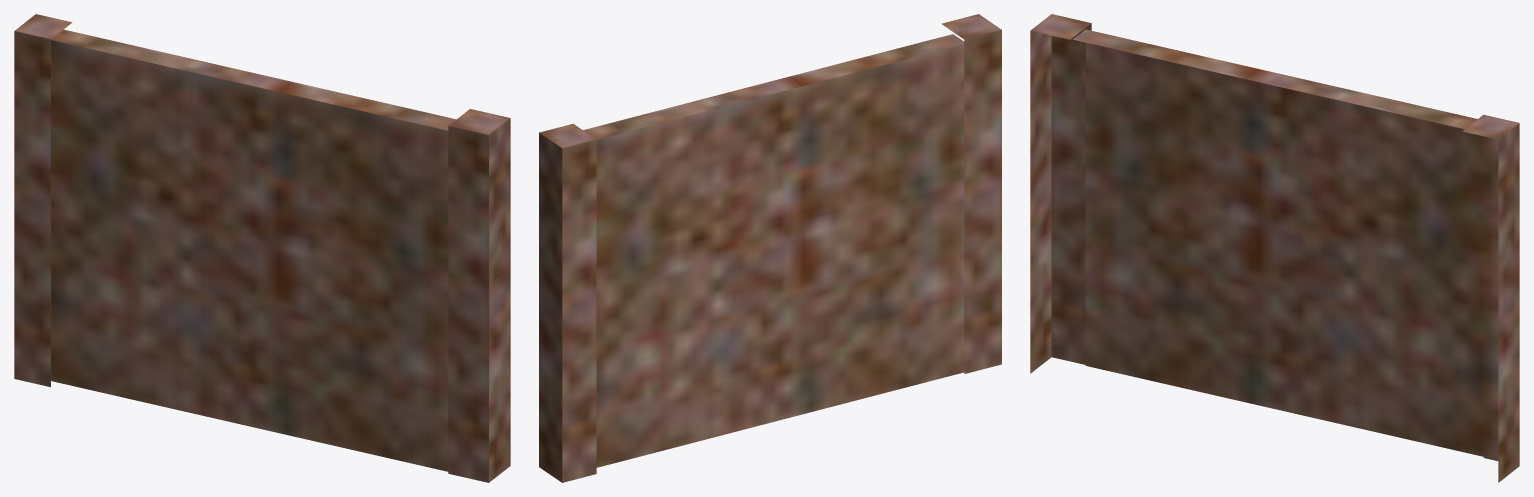
Rendered from Brick_WallHigh_Panel_Rail_1 st nv.fbx.
The picture shows the model from 3 angles, left to right: view 1: azimuth 90°, elevation 25°; view 2: azimuth 150°, elevation 25°; view 3: azimuth 270°, elevation 25°; orthographic projection. The views are drawn at different scales.
Visible parts, largest first — view 1: Brick_WallHigh_Panel_Rail_1_v0__sq01__1___18_; view 2: Brick_WallHigh_Panel_Rail_1_v0__sq01__1___18_; view 3: Brick_WallHigh_Panel_Rail_1_v0__sq01__1___18_.
Boxes of the visible parts, bbox=[...] form: Brick_WallHigh_Panel_Rail_1_v0__sq01__1___18_: bbox=[14, 14, 510, 482]; Brick_WallHigh_Panel_Rail_1_v0__sq01__1___18_: bbox=[539, 14, 1001, 482]; Brick_WallHigh_Panel_Rail_1_v0__sq01__1___18_: bbox=[1030, 14, 1519, 482].
Size of the model in its own units: 156 by 205 by 263.
Materials: 1 (1 with a texture image).
